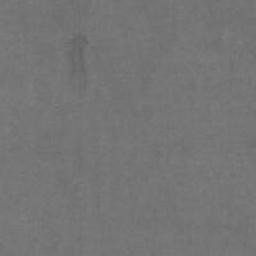Water spot: (70, 33, 88, 92)
